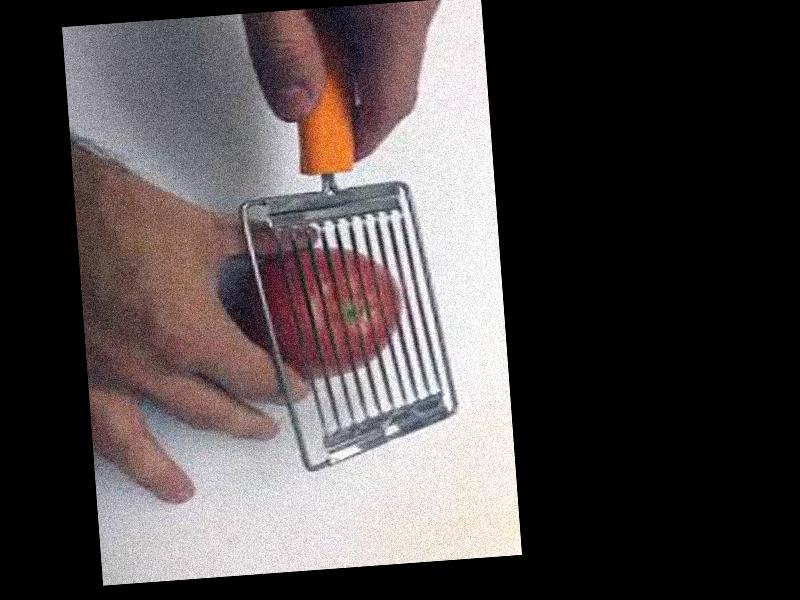Tomato: (236, 239, 405, 380)
